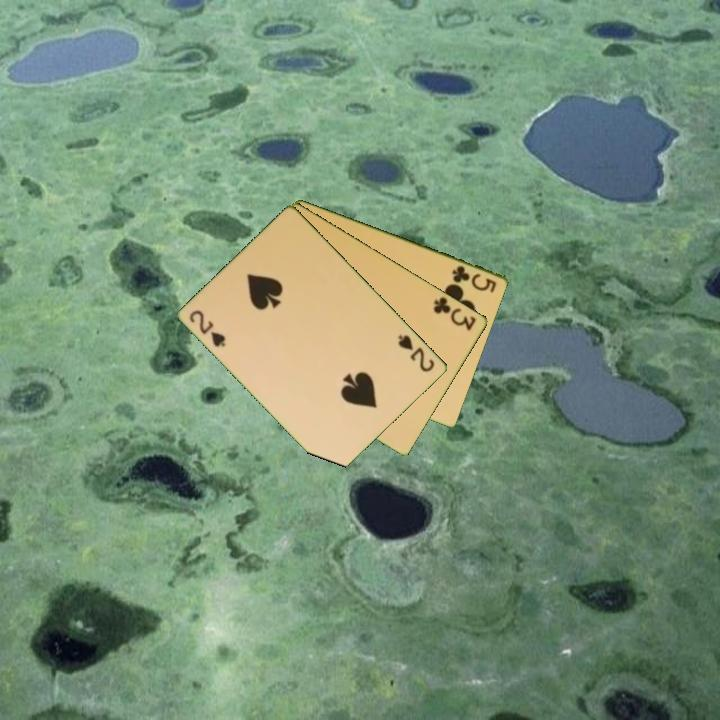2s: (394, 331, 438, 375), (186, 307, 229, 350)
3c: (430, 293, 479, 333)
5c: (449, 262, 500, 296)
